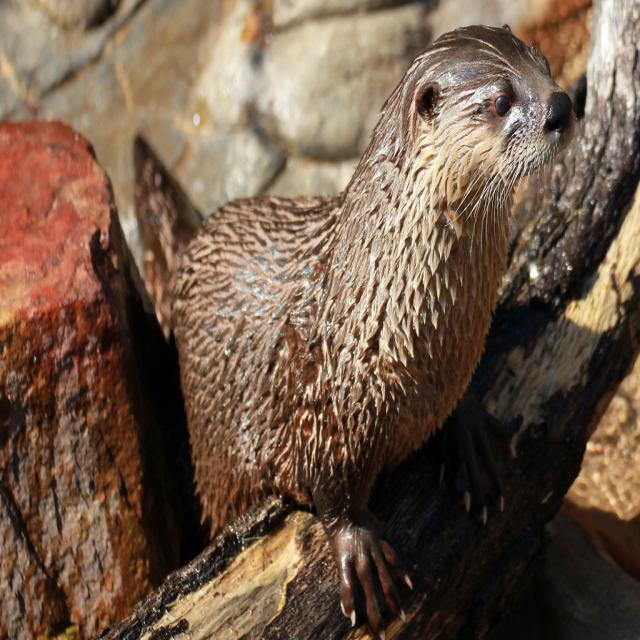otter: (181, 25, 576, 509)
